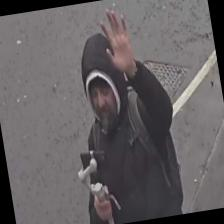person: (56, 1, 188, 224)
